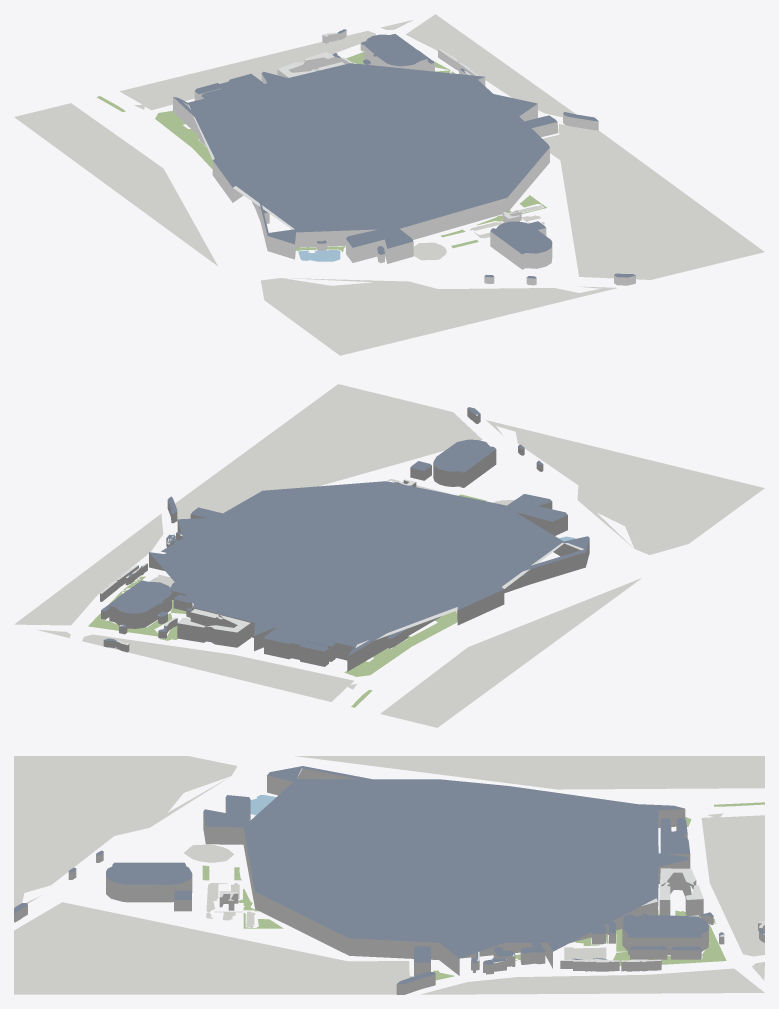
The model's file is campus_geometry.glb.
3 renders of one model, top to bottom at view 1: azimuth 30°, elevation 25°; view 2: azimuth 150°, elevation 25°; view 3: azimuth 270°, elevation 25°, orthographic. The views are drawn at different scales.
Visible parts, largest first — view 1: 按官方总平面图 1:1 轮廓挤出; view 2: 按官方总平面图 1:1 轮廓挤出; view 3: 按官方总平面图 1:1 轮廓挤出.
Part boxes in pixels (x1,y1,x2,y2): 按官方总平面图 1:1 轮廓挤出: (14,14,764,355); 按官方总平面图 1:1 轮廓挤出: (14,384,764,727); 按官方总平面图 1:1 轮廓挤出: (14,756,764,994).
Size of the model in its own units: 994 by 40 by 1322.
